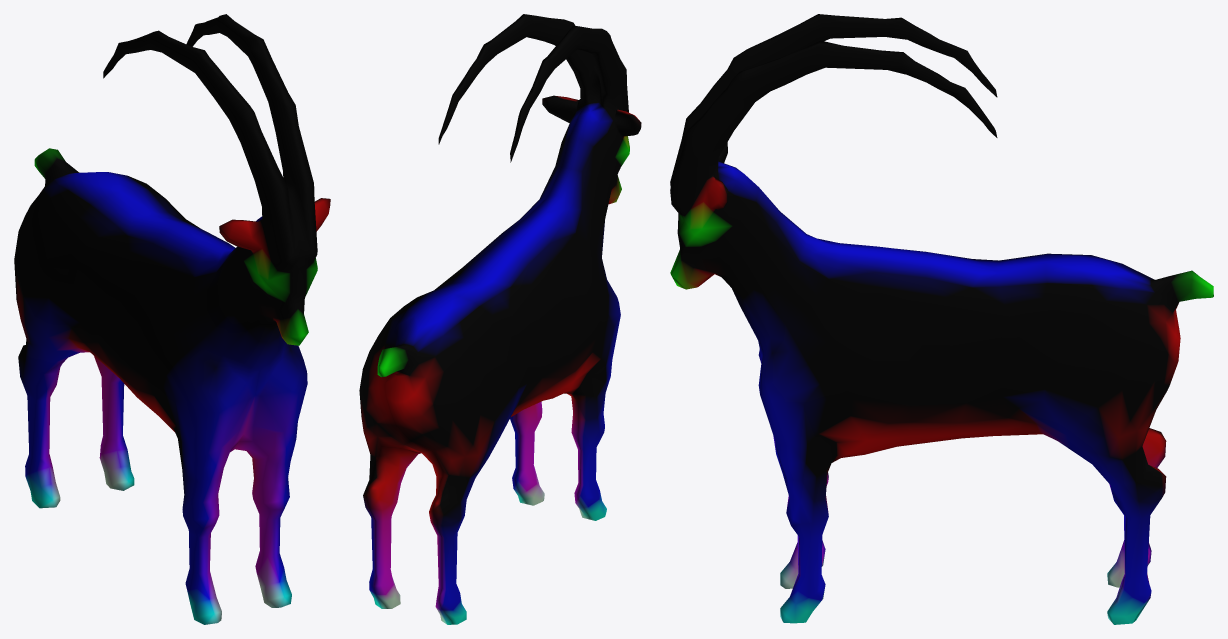
Rendered from alpine-ibex.glb.
3 renders of one model, left to right at view 1: azimuth 30°, elevation 25°; view 2: azimuth 150°, elevation 25°; view 3: azimuth 270°, elevation 25°, orthographic. The views are drawn at different scales.
Visible parts, largest first — view 1: ibex; view 2: ibex; view 3: ibex.
Boxes of the visible parts, left/top/right/bottom form: ibex: left=14, top=14, right=330, bottom=624; ibex: left=359, top=14, right=641, bottom=624; ibex: left=670, top=14, right=1213, bottom=624.
Bounding box in the file's own units: 0.3554 × 1.29 × 1.11.
